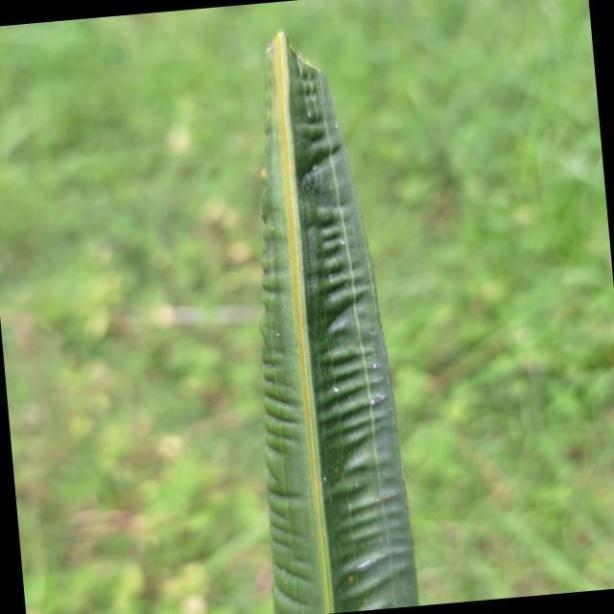Boron: (254, 19, 419, 614)
